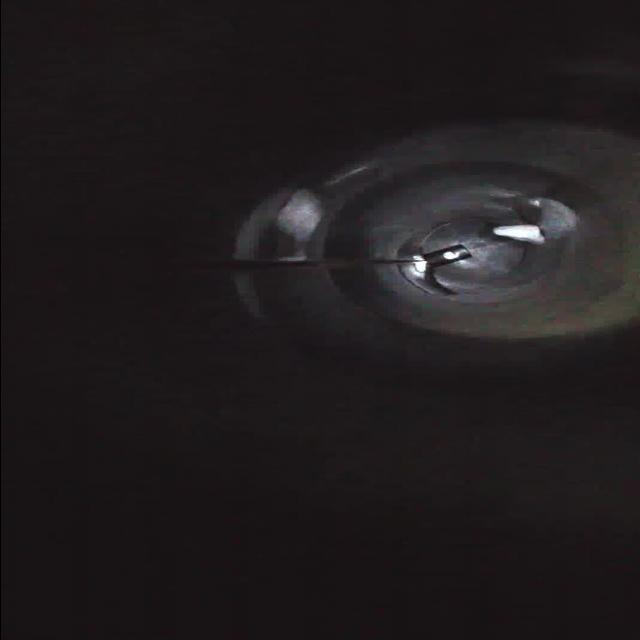impurity: (488, 219, 554, 252)
